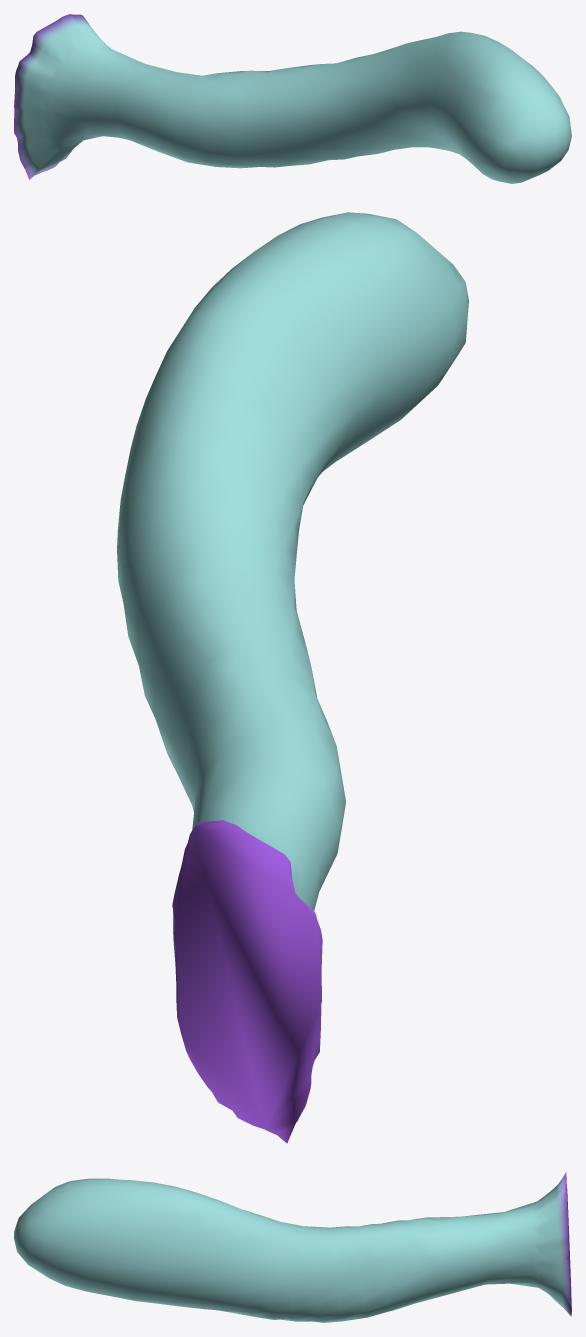
The model's file is Appendix.FBX.
3 renders of one model, top to bottom at view 1: azimuth 30°, elevation 25°; view 2: azimuth 150°, elevation 25°; view 3: azimuth 270°, elevation 25°, orthographic. The views are drawn at different scales.
Visible parts, largest first — view 1: Object003-Snapshot009; view 2: Object003-Snapshot009; view 3: Object003-Snapshot009.
Part boxes in pixels (box(x1,y1,x2,y2)): Object003-Snapshot009: box(14, 14, 571, 183); Object003-Snapshot009: box(117, 212, 468, 1143); Object003-Snapshot009: box(14, 1172, 571, 1322).
Bounding box in the file's own units: 25.6 × 20.55 × 44.46.
